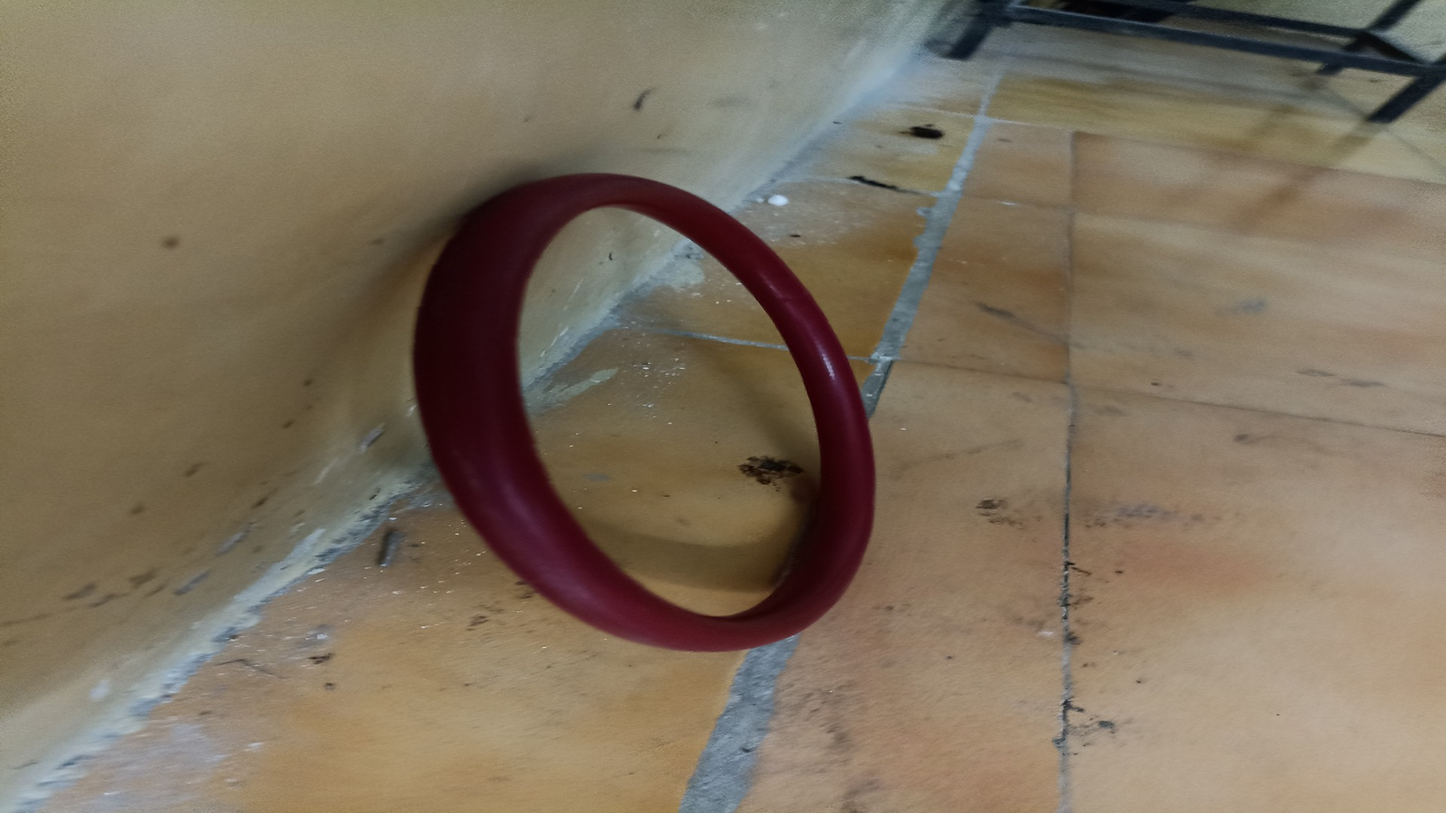Red ring: (426, 174, 871, 654)
